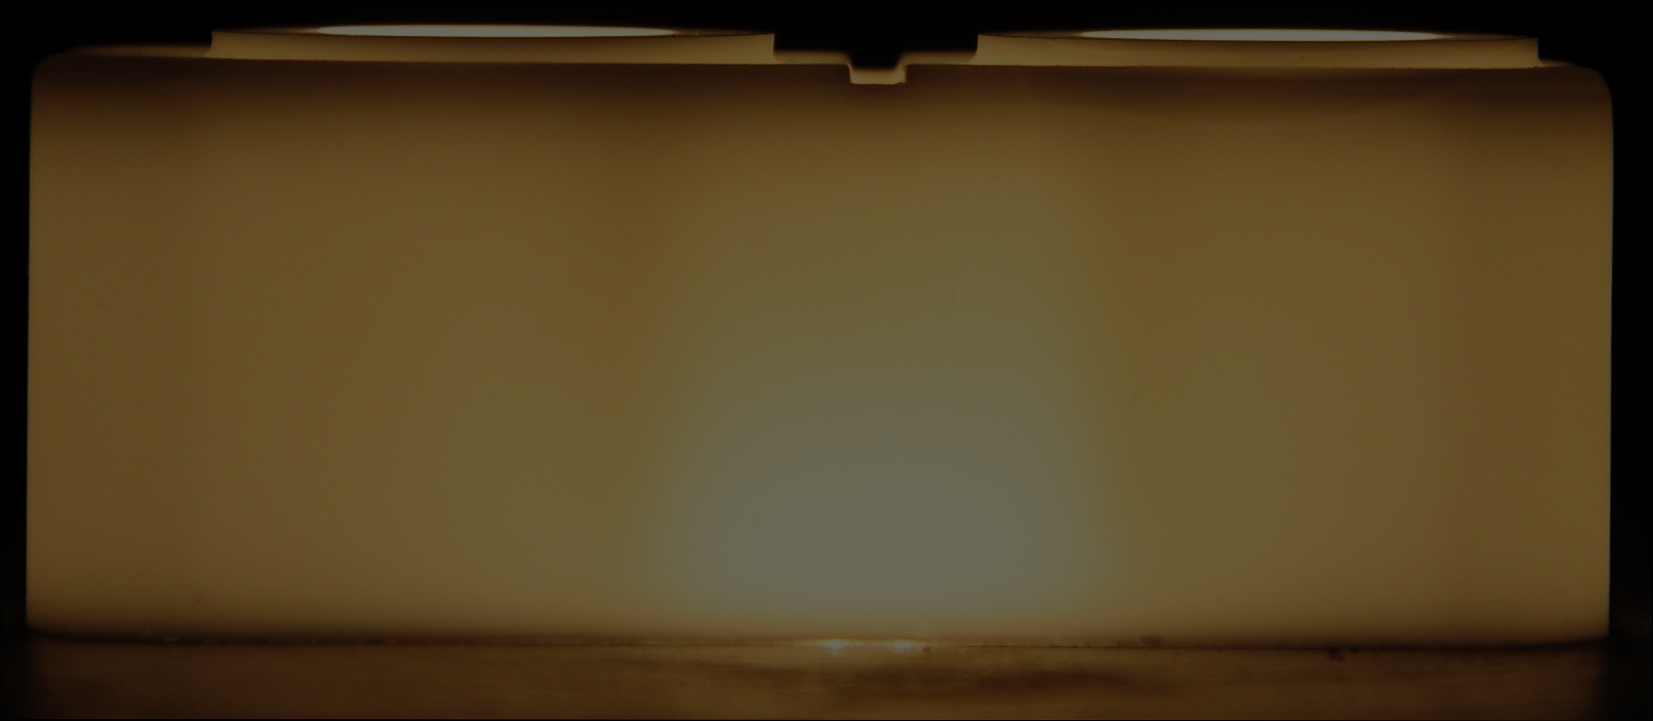flaw: (1014, 69, 1448, 149)
